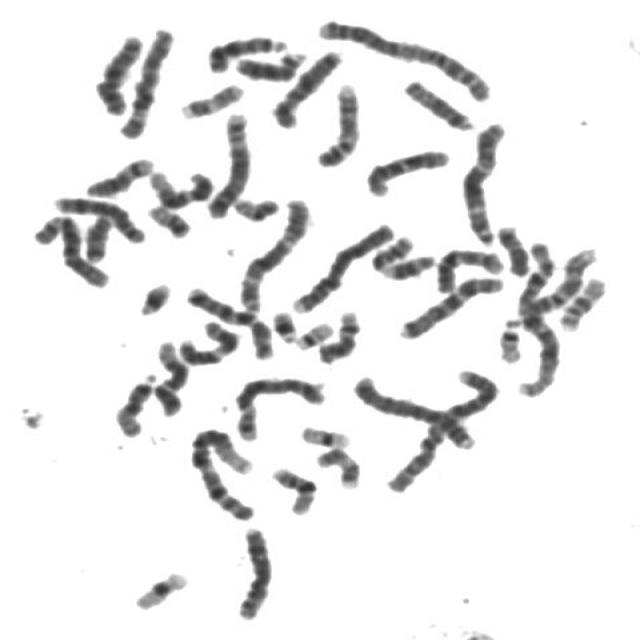A1: (511, 234, 564, 399), (181, 419, 259, 523)
A2: (309, 11, 496, 102), (377, 362, 504, 494)
A3: (230, 190, 314, 314), (454, 112, 510, 246)
B4: (284, 215, 397, 315), (345, 368, 479, 452)
B5: (228, 368, 329, 442), (198, 103, 254, 220)
C10: (358, 141, 453, 198), (428, 241, 508, 294)
C11: (362, 227, 438, 282), (170, 313, 242, 367)
C12: (140, 162, 216, 210), (147, 333, 190, 417)
C6: (111, 19, 177, 141), (26, 207, 114, 290)
C7: (391, 268, 506, 341), (177, 278, 276, 362)
C8: (46, 188, 150, 246), (228, 518, 276, 622)
C9: (509, 240, 602, 323), (308, 75, 364, 169)
D13: (199, 26, 289, 74), (228, 43, 308, 83)
D14: (78, 149, 158, 199), (310, 302, 362, 365)
D15: (395, 70, 477, 132), (106, 368, 158, 439)
E16: (552, 268, 611, 332), (264, 459, 319, 516)
E17: (172, 74, 247, 120), (308, 441, 363, 490)
E18: (489, 217, 534, 277), (78, 207, 118, 262)
F19: (124, 562, 192, 612), (292, 417, 353, 449)
F20: (140, 196, 193, 238), (224, 189, 281, 223)
G21: (129, 274, 175, 317), (264, 302, 301, 344)
G22: (492, 311, 527, 365), (287, 314, 336, 351)
X: (264, 41, 345, 130), (86, 26, 146, 117)
